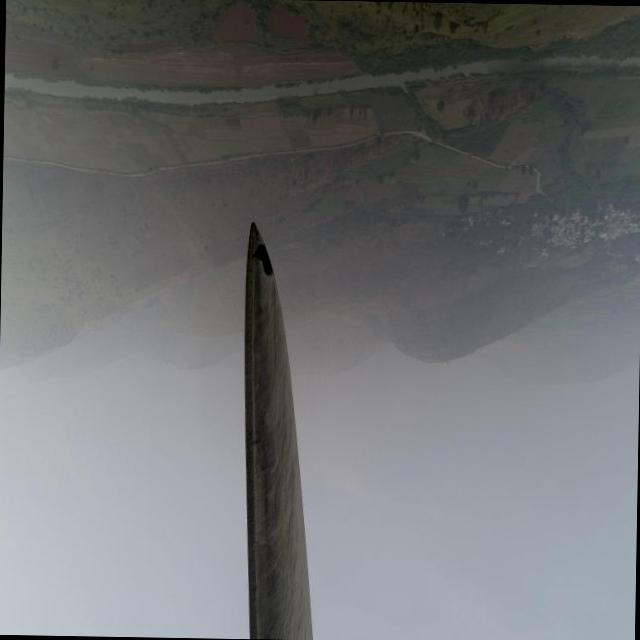Dirt: (243, 222, 316, 639)
Oil LEAKAGE: (251, 235, 280, 274)
